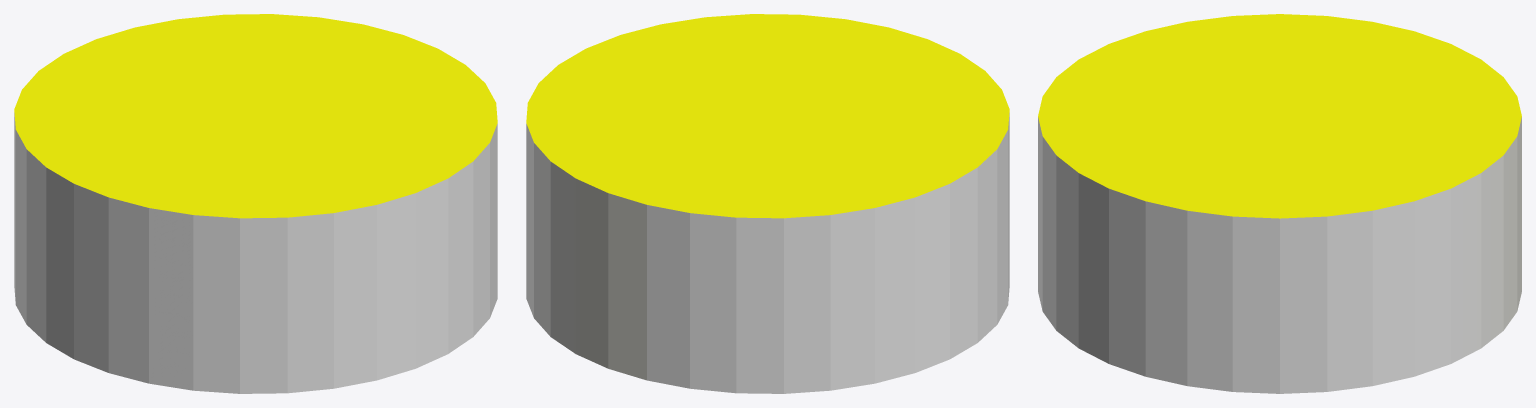
The model's file is tankS2.dae.
The picture shows the model from 3 angles, left to right: view 1: azimuth 30°, elevation 25°; view 2: azimuth 150°, elevation 25°; view 3: azimuth 270°, elevation 25°; orthographic projection.
Visible parts, largest first — view 1: Cylinder; view 2: Cylinder; view 3: Cylinder.
Boxes of the visible parts, x1,y1,x2,y2 form: Cylinder: (14,14,497,393); Cylinder: (526,14,1009,393); Cylinder: (1038,14,1521,393).
Size of the model in its own units: 2.5 by 2.5 by 1.
1 material, 1 textured.
